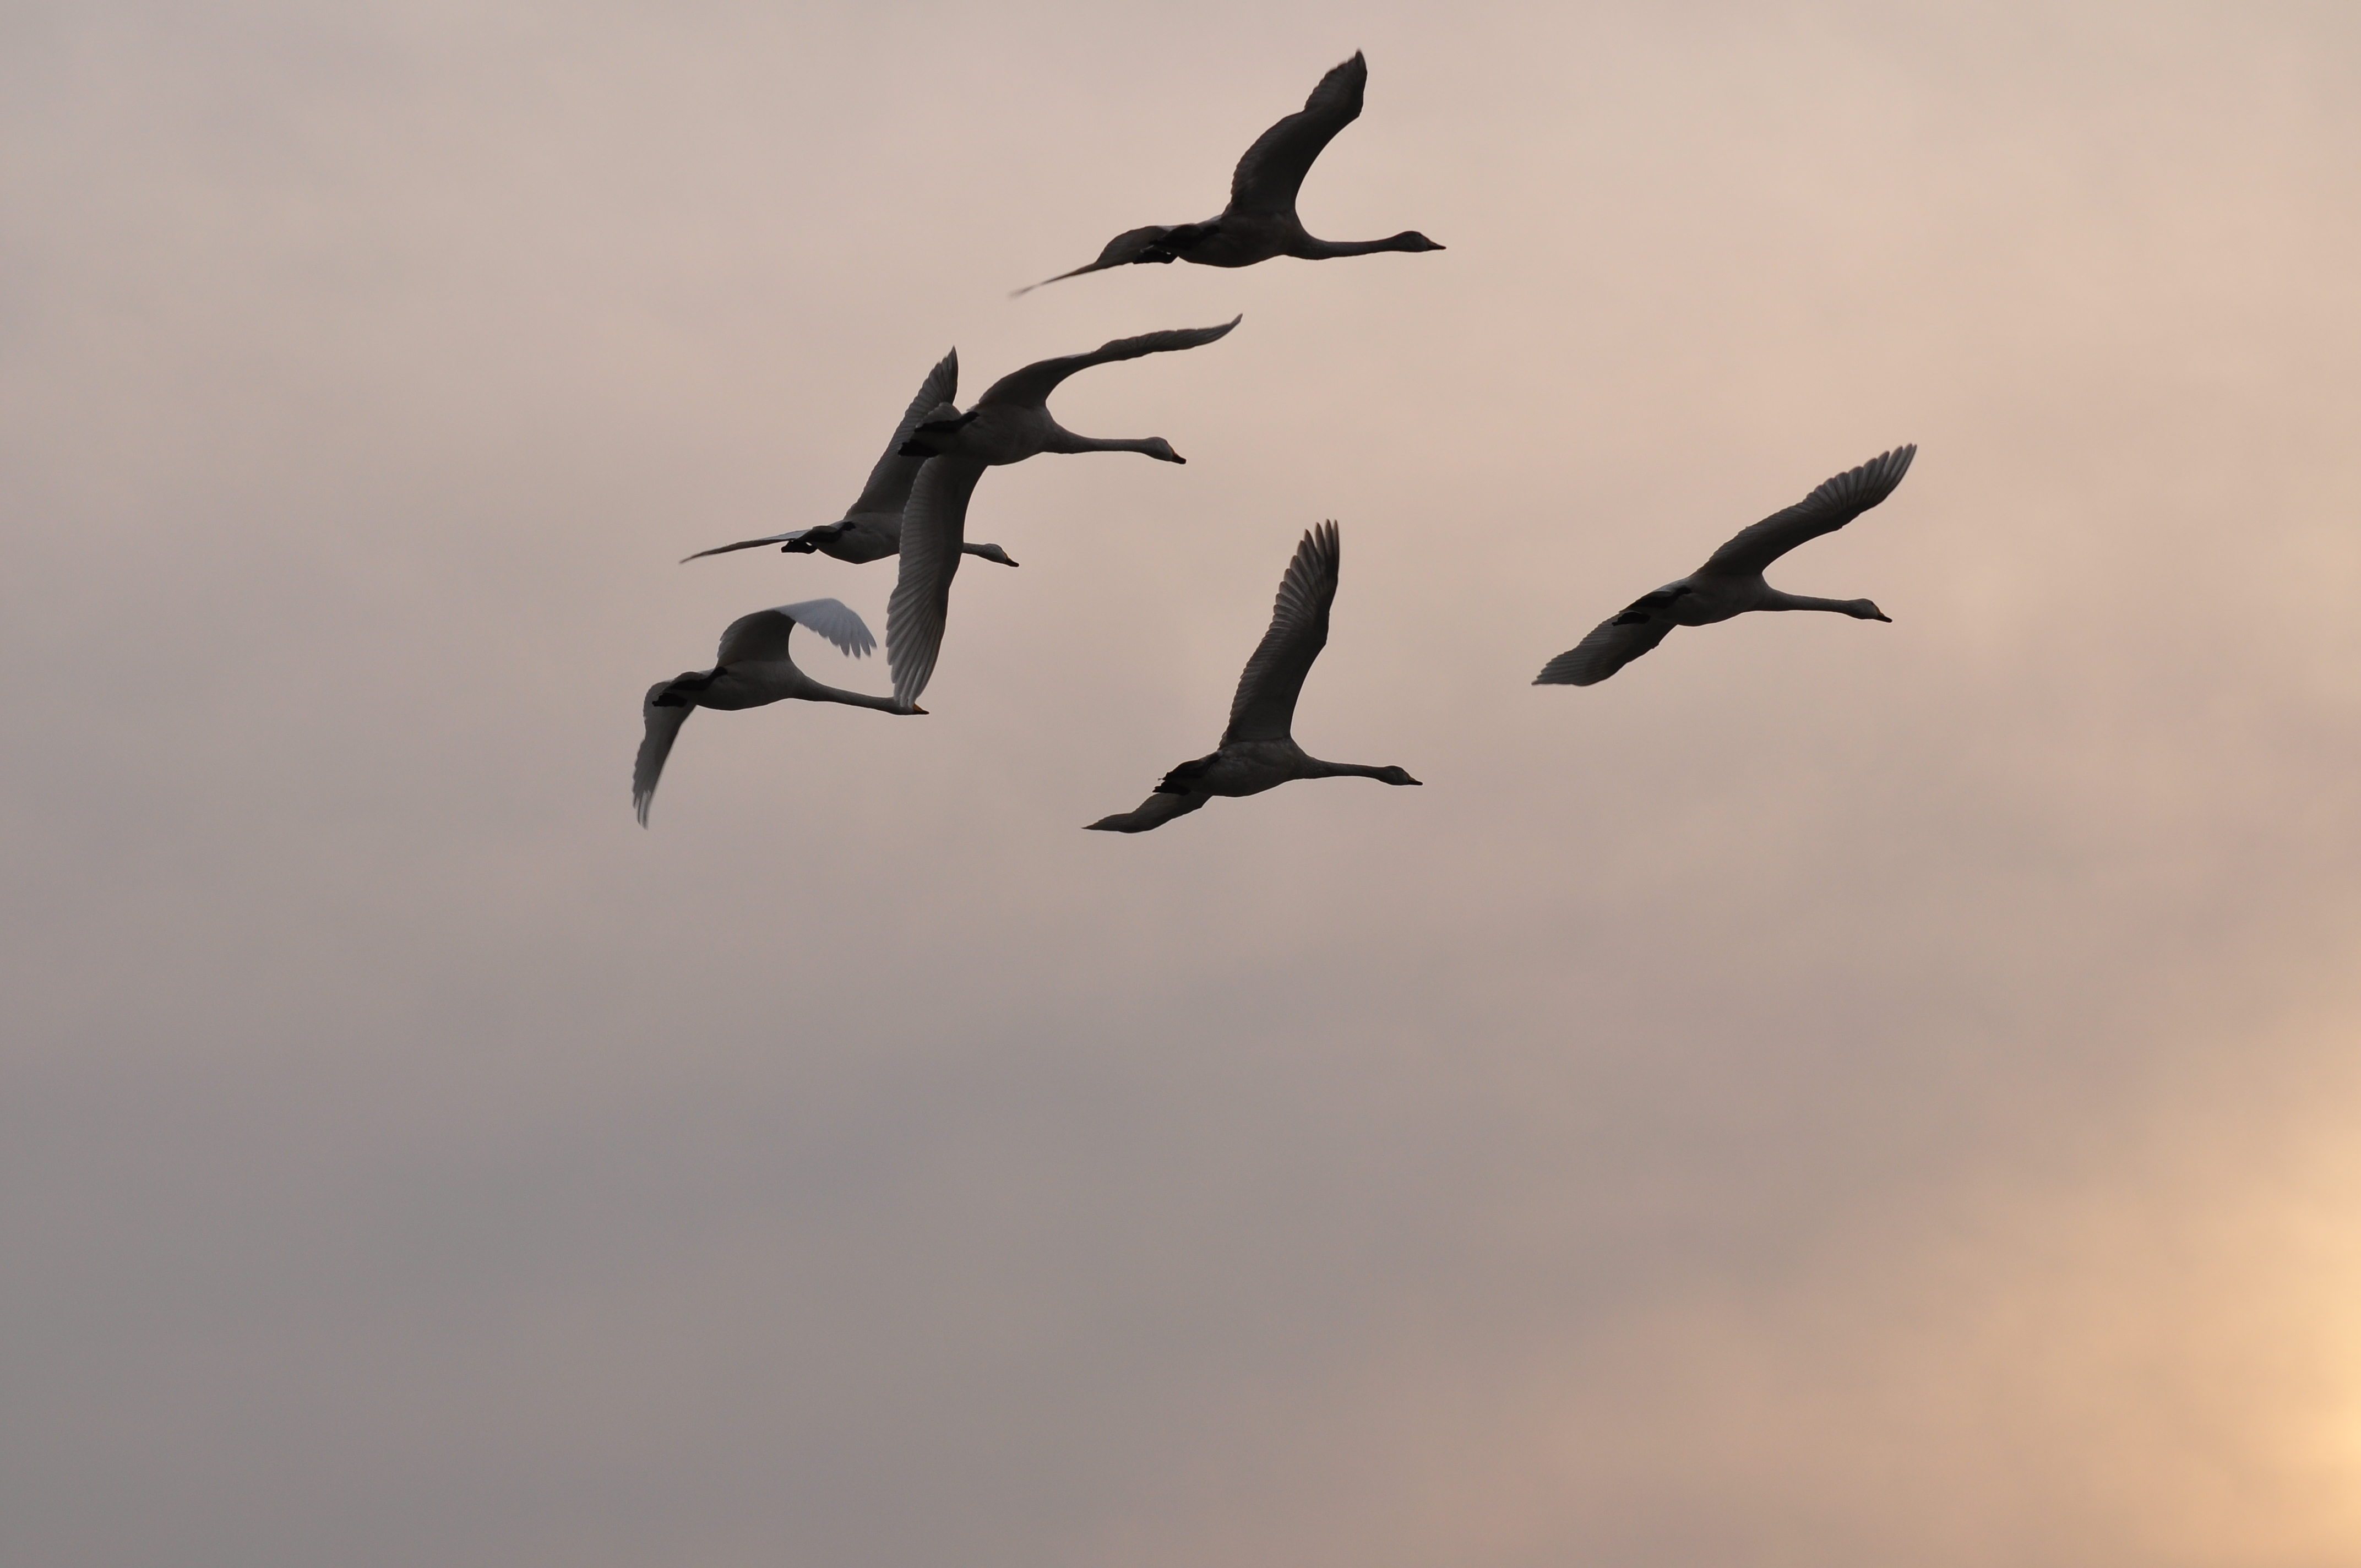bird: (879, 310, 1244, 695), (1073, 523, 1428, 831), (1019, 56, 1439, 304), (1524, 434, 1929, 691), (600, 595, 933, 835), (691, 345, 1019, 563)
